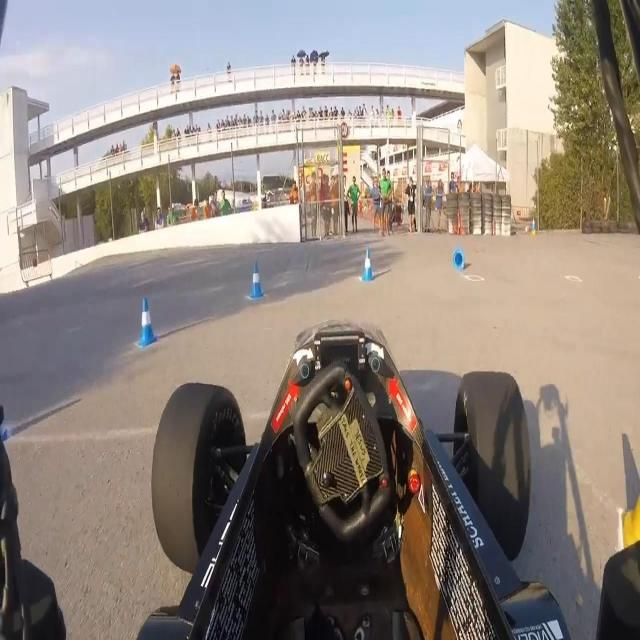blue_cone: (135, 294, 158, 349), (248, 260, 264, 301), (359, 243, 375, 284), (531, 217, 536, 230)
